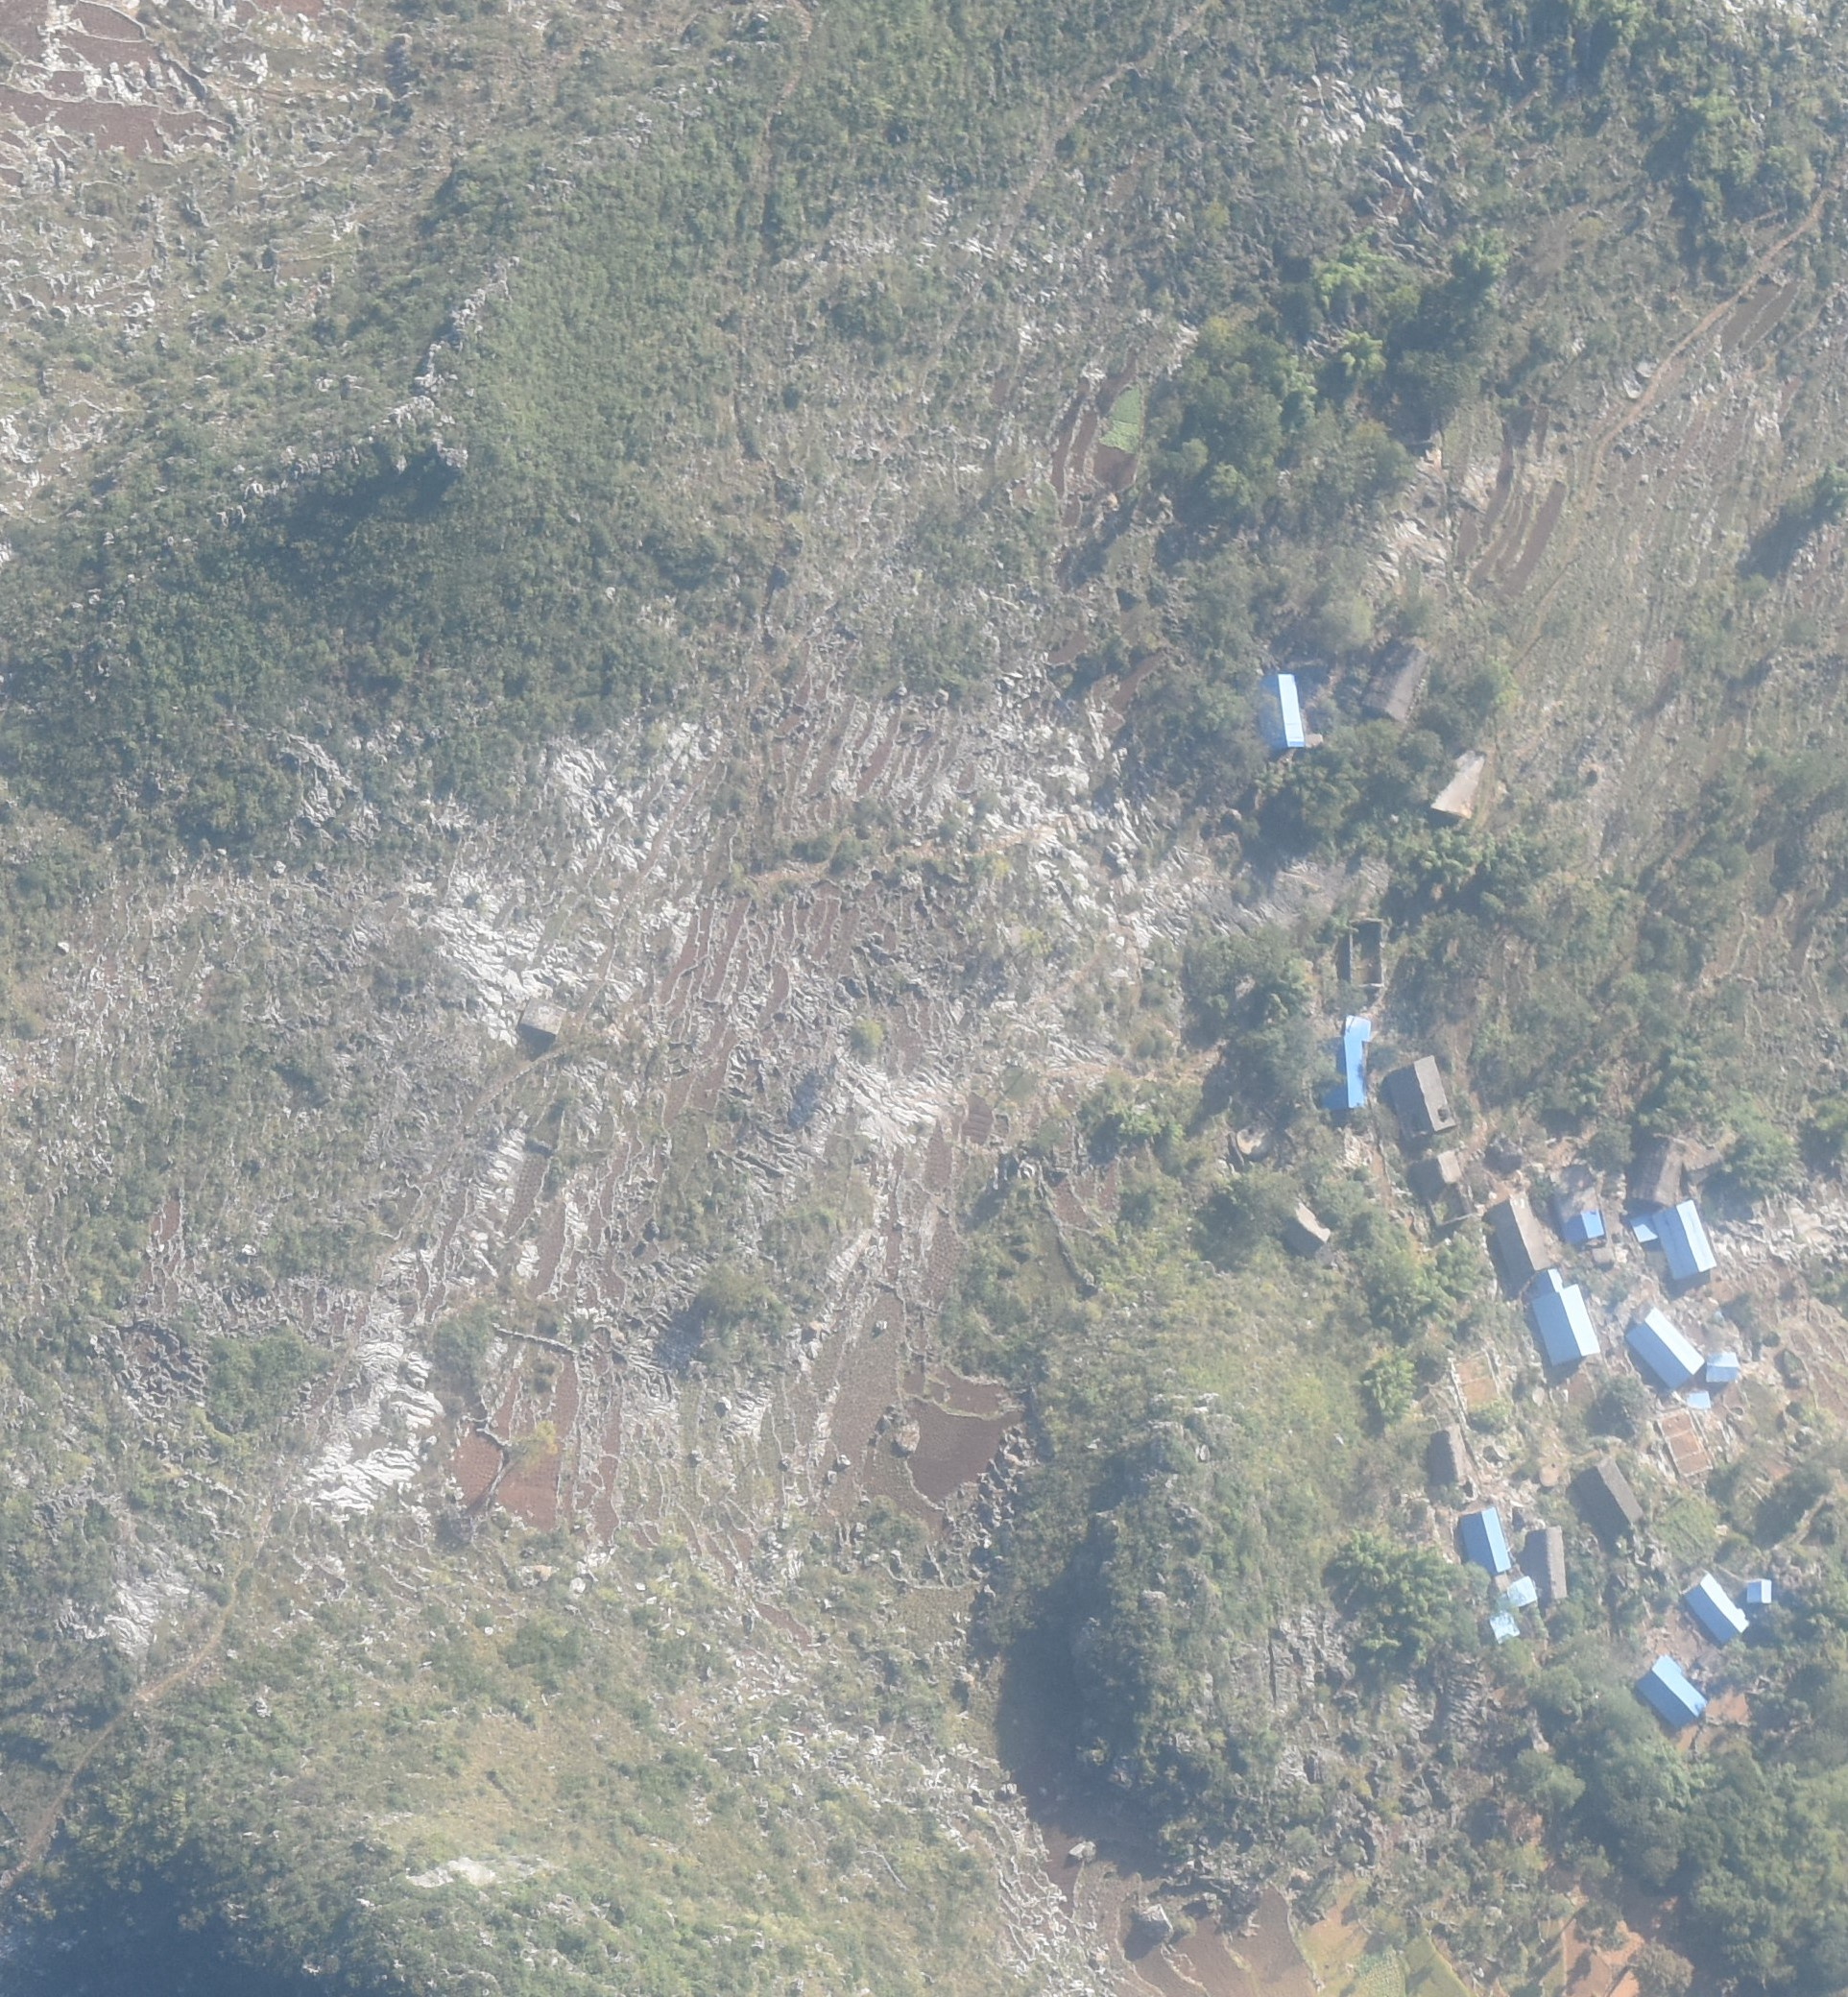building: (1491, 1190, 1552, 1282), (1389, 1056, 1456, 1138), (1577, 1456, 1644, 1533), (1368, 640, 1429, 724), (1627, 1132, 1684, 1207), (1434, 743, 1488, 818), (1528, 1526, 1566, 1602), (1284, 1200, 1331, 1254), (1350, 920, 1385, 988), (1413, 1150, 1460, 1190), (1679, 1148, 1724, 1181)
prefabricated-house: (1629, 1305, 1704, 1392), (1531, 1280, 1603, 1364), (1637, 1651, 1707, 1727), (1655, 1199, 1716, 1280), (1684, 1569, 1751, 1642), (1260, 673, 1305, 753), (1462, 1506, 1510, 1574), (1324, 1039, 1368, 1112), (1566, 1207, 1604, 1244), (1491, 1606, 1521, 1647), (1705, 1350, 1740, 1385), (1507, 1574, 1537, 1611), (1632, 1209, 1660, 1244), (1345, 1014, 1369, 1042), (1535, 1268, 1563, 1292), (1747, 1580, 1771, 1604), (1688, 1388, 1709, 1411)
well: (1237, 1122, 1269, 1160), (1538, 1465, 1557, 1487)
